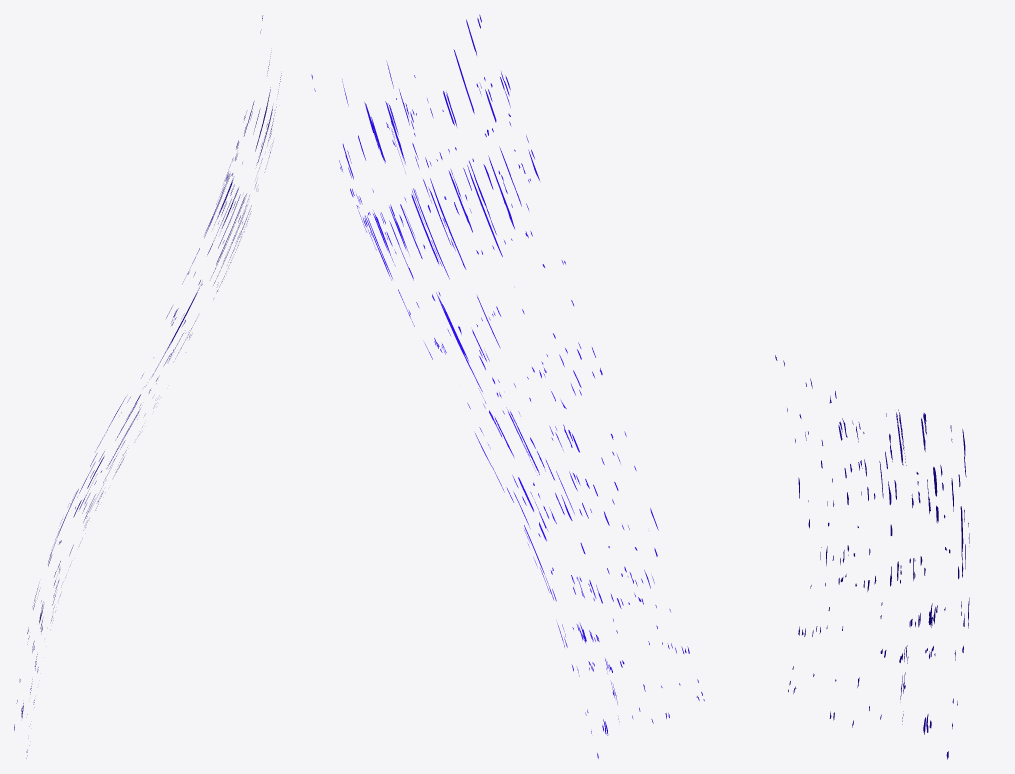
Rendered from curvedtool_wrinkle_glb.glb.
3 renders of one model, left to right at view 1: azimuth 30°, elevation 25°; view 2: azimuth 150°, elevation 25°; view 3: azimuth 270°, elevation 25°, orthographic. The views are drawn at different scales.
Visible parts, largest first — view 1: front 321; view 2: front 321; view 3: front 321.
Boxes of the visible parts, bbox=[...] form: front 321: bbox=[14, 15, 281, 758]; front 321: bbox=[311, 14, 704, 758]; front 321: bbox=[775, 355, 969, 759].
Bounding box in the file's own units: 0.844 × 1.65 × 0.4596.
